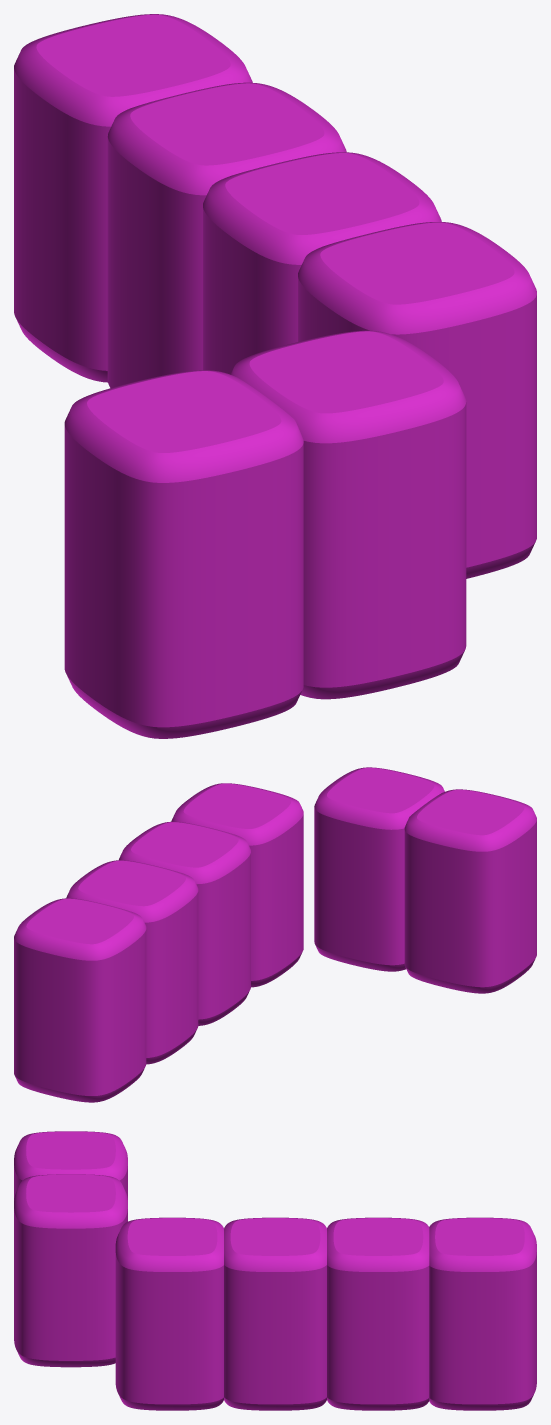
File: Letter_r_Small.fbx
The picture shows the model from 3 angles, top to bottom: view 1: azimuth 30°, elevation 25°; view 2: azimuth 150°, elevation 25°; view 3: azimuth 270°, elevation 25°; orthographic projection. The views are drawn at different scales.
Parts seen in each view (by area): view 1: Letter_r; view 2: Letter_r; view 3: Letter_r.
Part boxes in pixels (x1,y1,x2,y2): Letter_r: (14,14,536,738); Letter_r: (14,767,536,1102); Letter_r: (14,1131,536,1410).
Size of the model in its own units: 0.2619 by 0.14 by 0.43.
